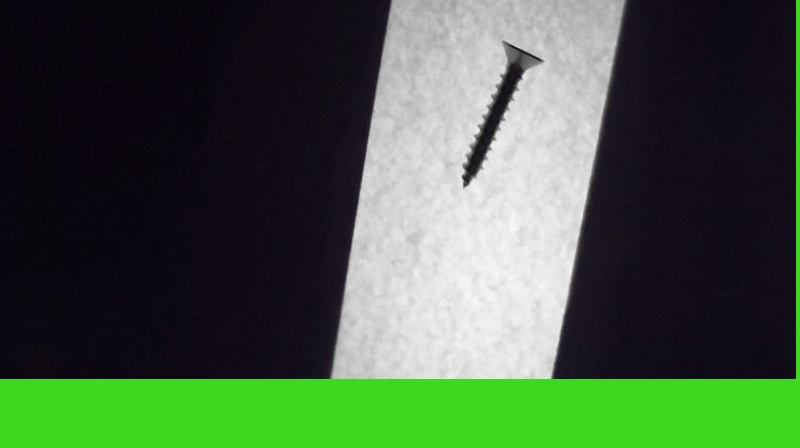S001: (457, 33, 547, 191)
